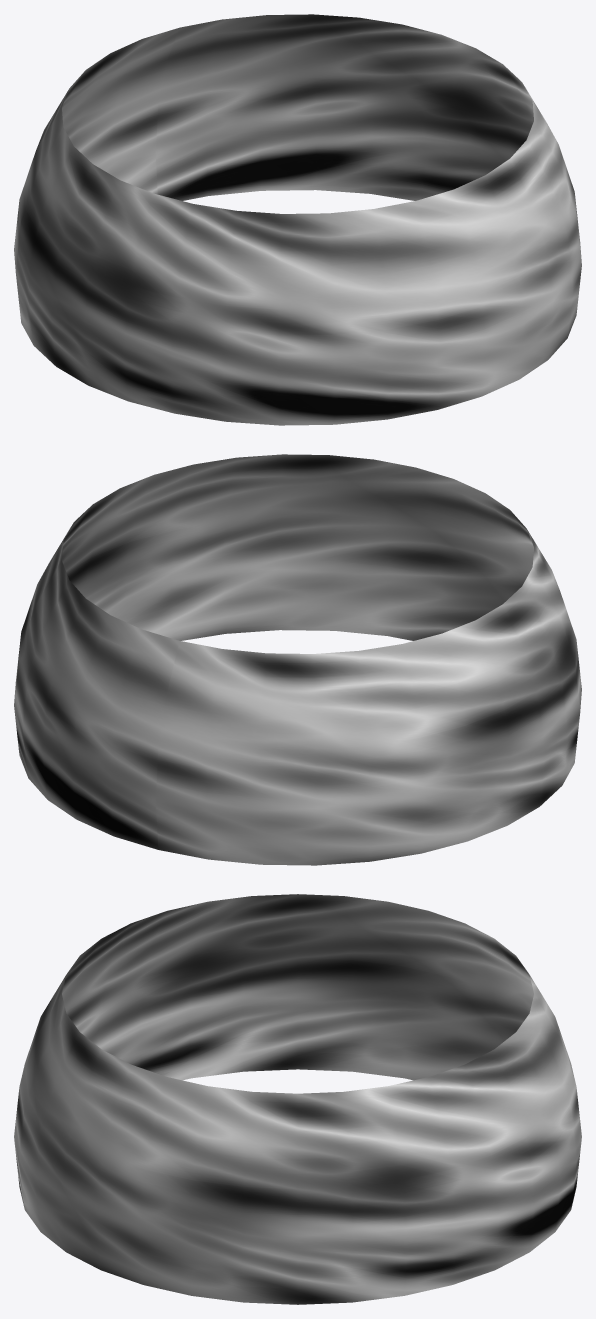
The model's file is efemesh.FBX.
3 views of the same model, one above another, from view 1: azimuth 30°, elevation 25°; view 2: azimuth 150°, elevation 25°; view 3: azimuth 270°, elevation 25° (orthographic).
Visible parts, largest first — view 1: Sphere001; view 2: Sphere001; view 3: Sphere001.
Boxes of the visible parts, left/top/right/bottom form: Sphere001: left=14, top=14, right=581, bottom=425; Sphere001: left=14, top=454, right=581, bottom=865; Sphere001: left=14, top=894, right=581, bottom=1304.
Bounding box in the file's own units: 35.46 × 13.31 × 35.46.
